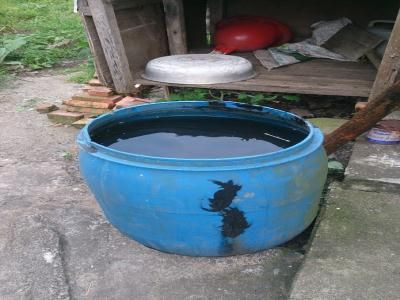bucket: (73, 97, 332, 260)
plate: (135, 51, 259, 88)
